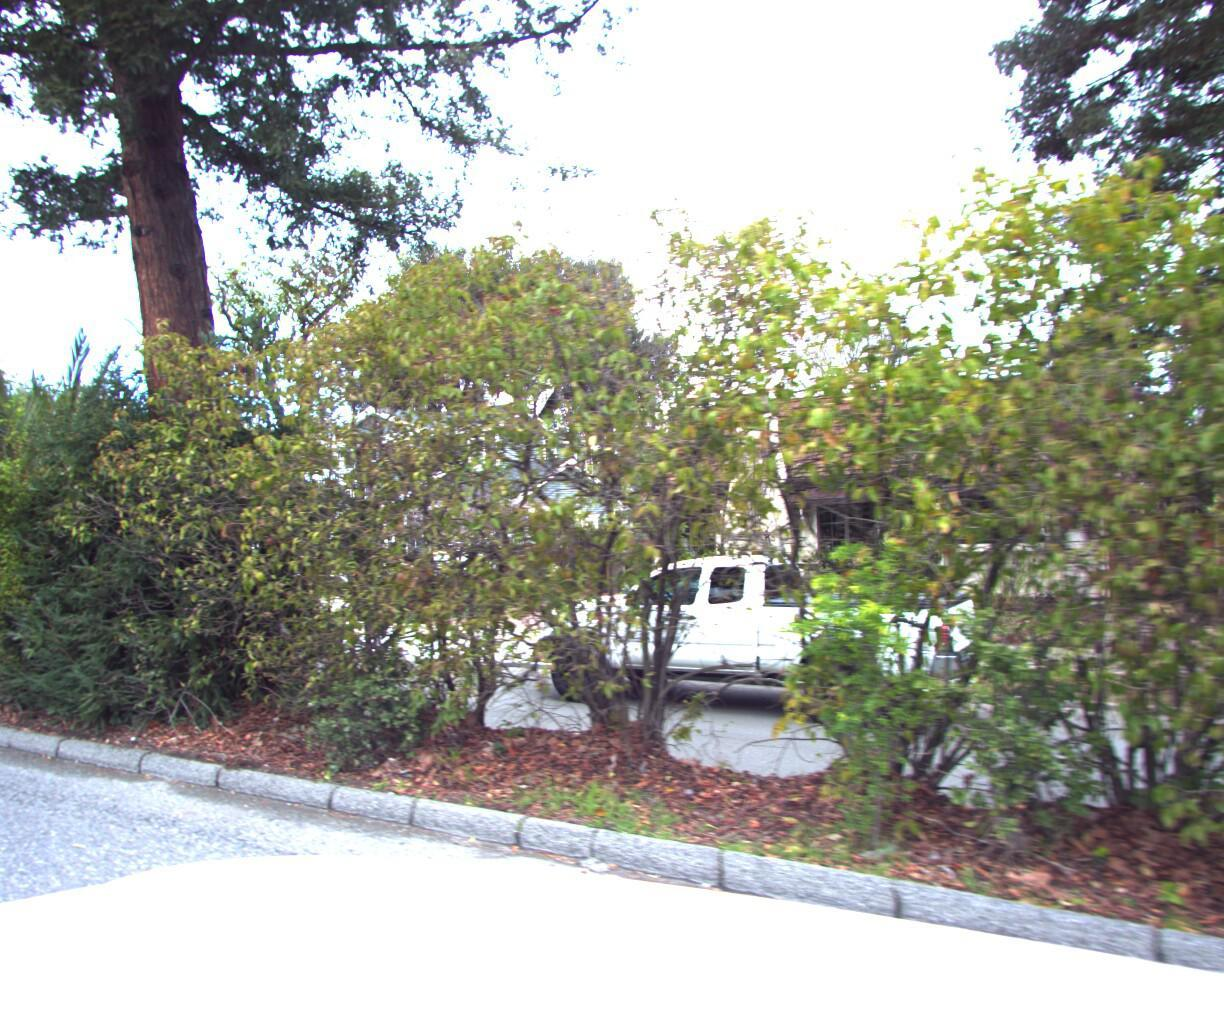car: (522, 539, 990, 735)
